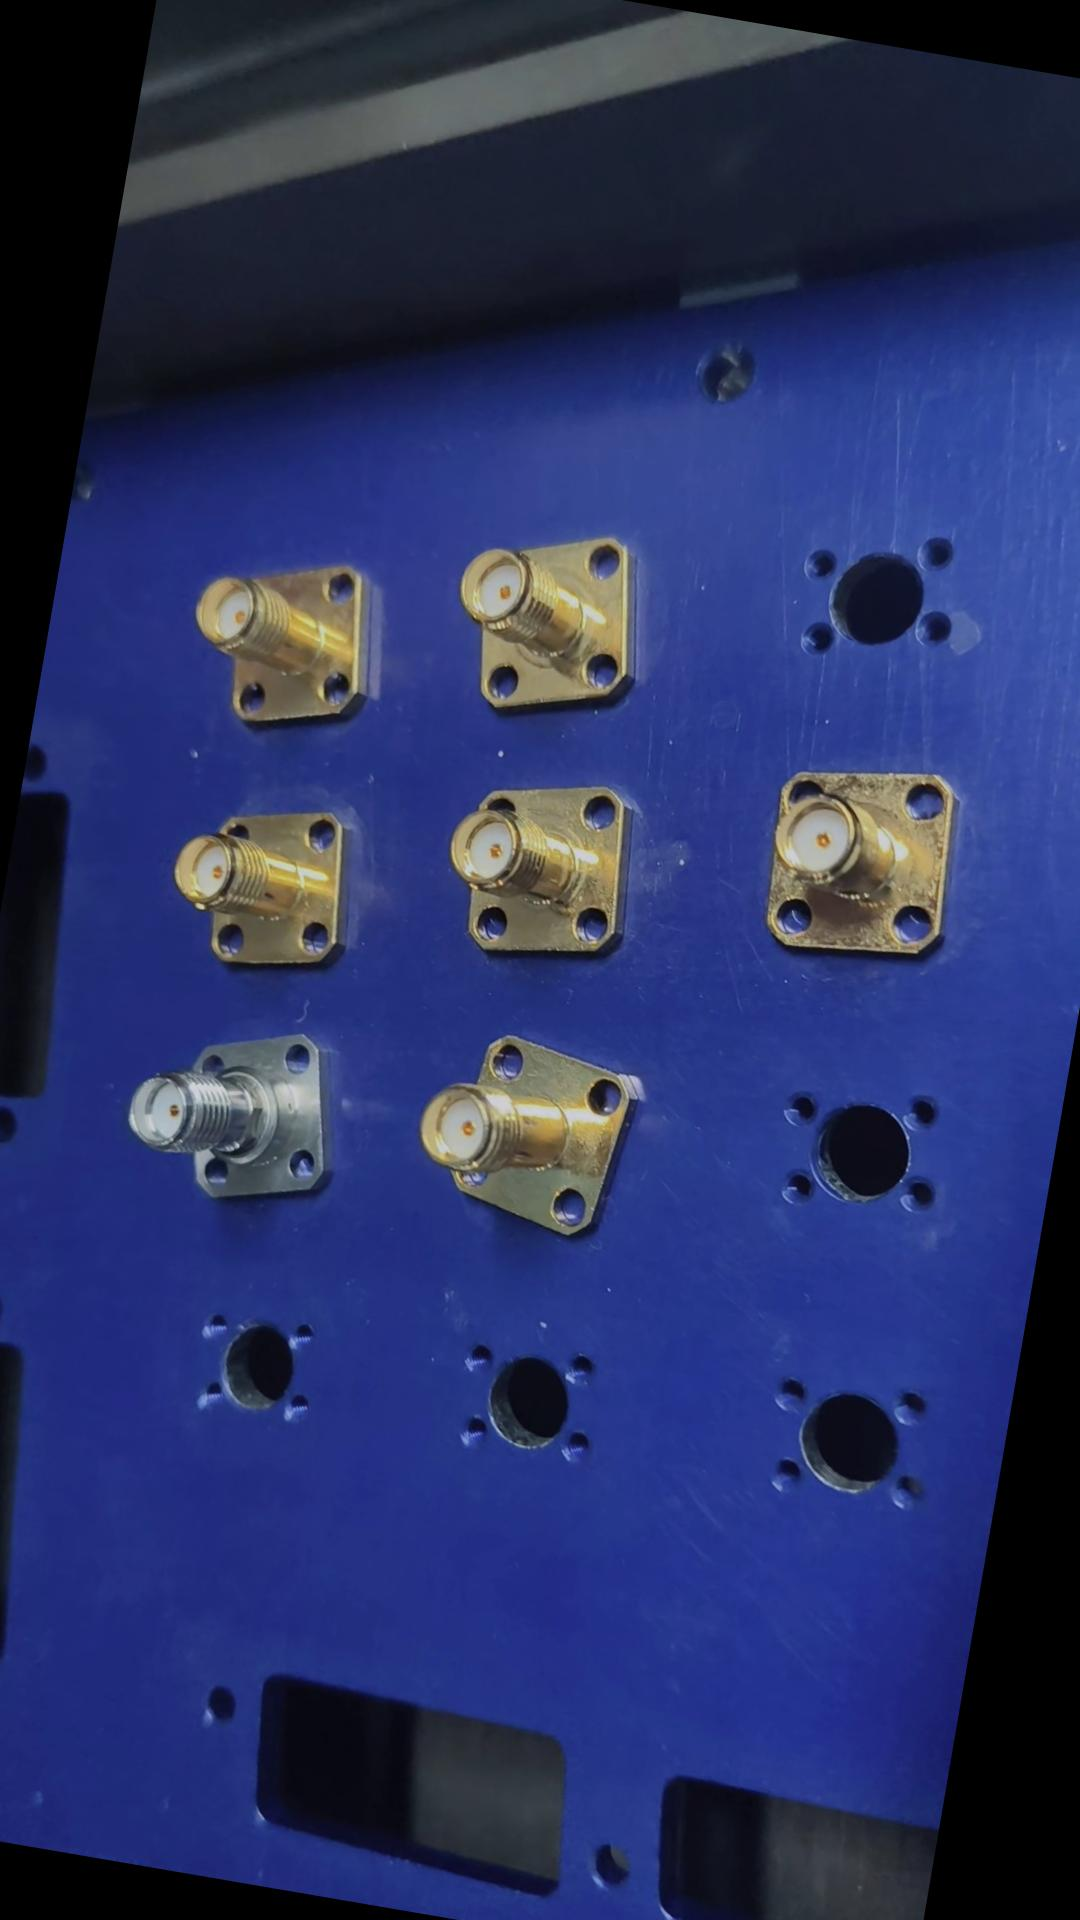SMA: (404, 1017, 654, 1253), (444, 512, 669, 736), (756, 746, 977, 972), (120, 1007, 356, 1211), (434, 760, 655, 976), (179, 545, 396, 749), (164, 790, 373, 981)
